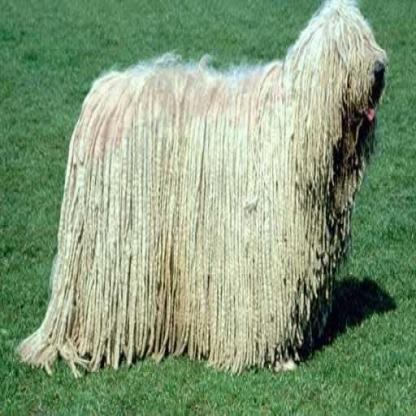komondor: (14, 0, 388, 372)
